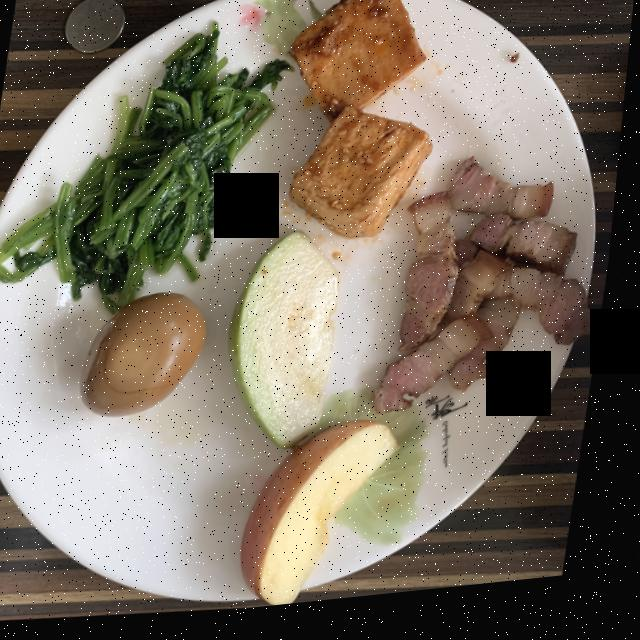apple -sliced-: (252, 428, 408, 612)
coin: (66, 0, 126, 54)
creamy tofu: (292, 0, 437, 245)
grilled pork: (384, 167, 599, 421)
guava -sliced-: (236, 238, 345, 455)
mustard greens: (0, 27, 293, 316)
soy egg: (88, 296, 214, 419)
